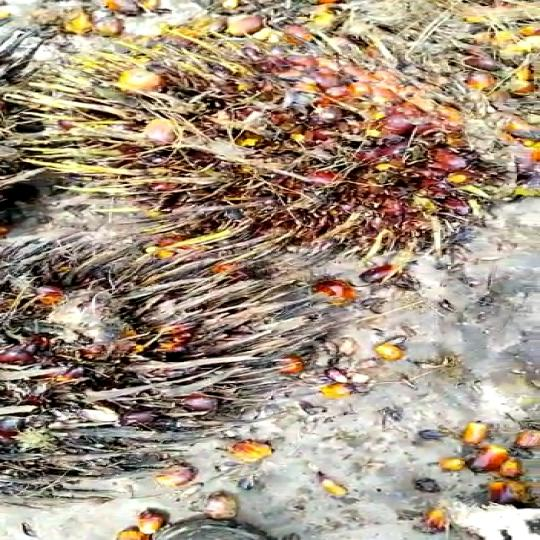terlalu masak: (0, 28, 516, 255)
